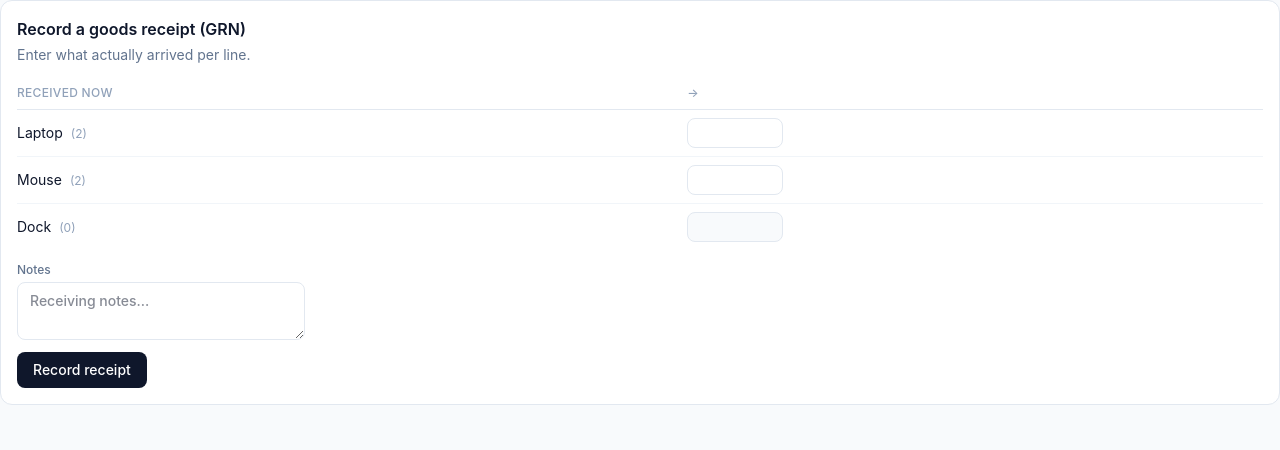
GoodsReceiptForm › rejects fractional quantities locally
In the number field with test id "grn-qty-it-1": (735, 133) [687,118,783,148], type "1.5"
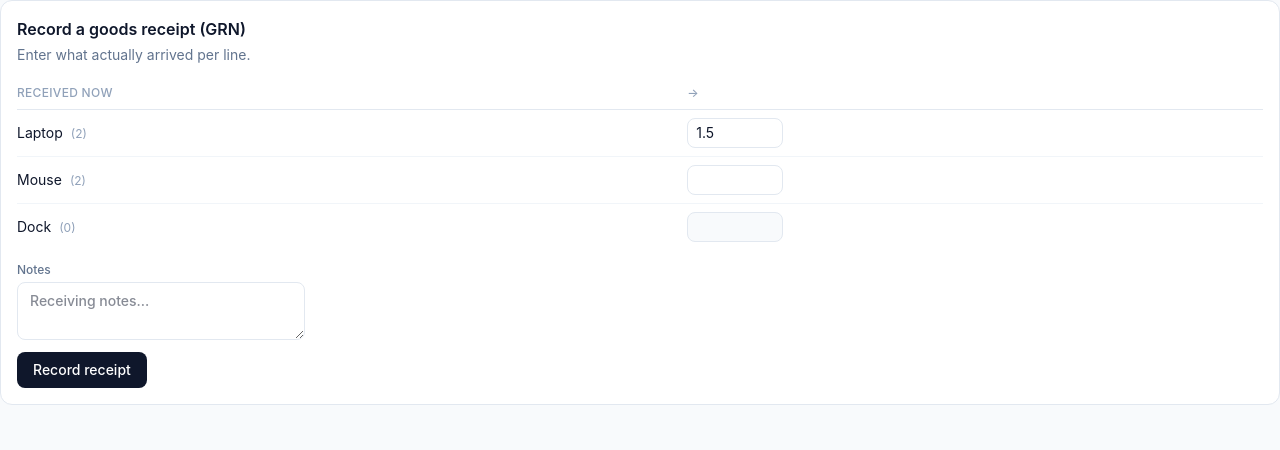
Click the button with test id "grn-submit": click(82, 370) [17,352,147,388]
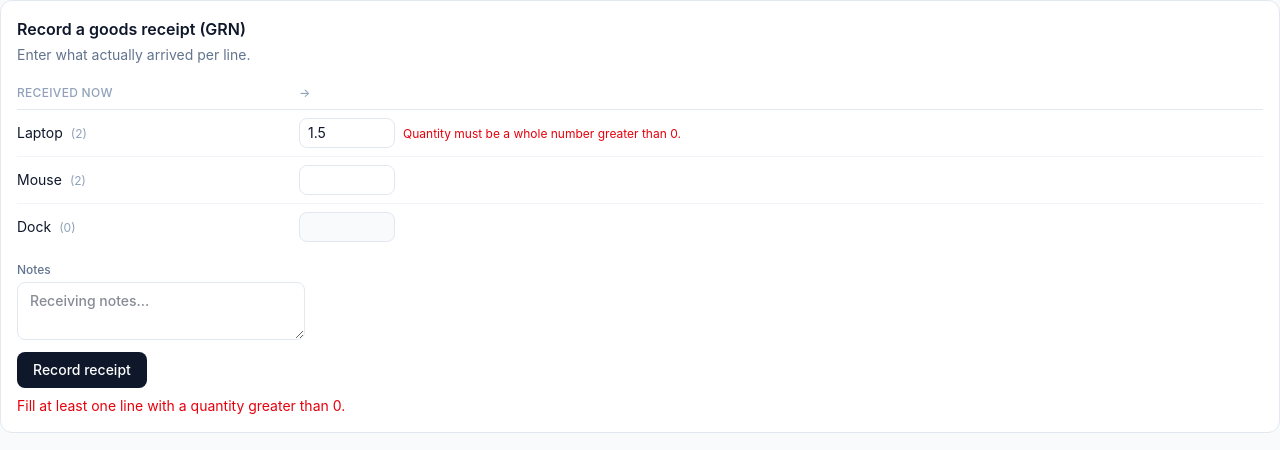
Expected: the message "Quantity must be a whole number greater than 0." is shown, [403,126,681,141]
